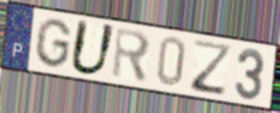0: (155, 35, 187, 89)
3: (233, 47, 266, 102)
G: (33, 17, 73, 70)
R: (111, 25, 153, 86)
U: (67, 17, 118, 77)
Z: (190, 38, 234, 98)
